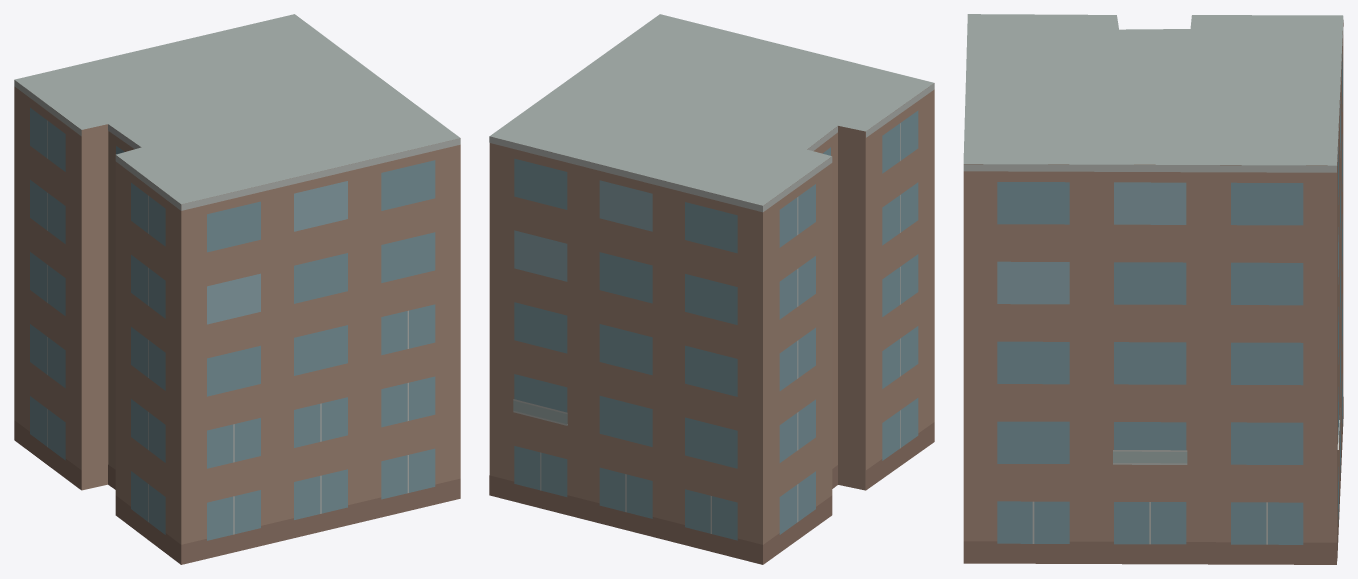
File: survey-upis-32636254.glb
The picture shows the model from 3 angles, left to right: view 1: azimuth 30°, elevation 25°; view 2: azimuth 150°, elevation 25°; view 3: azimuth 270°, elevation 25°; orthographic projection. The views are drawn at different scales.
Visible parts, largest first — view 1: survey-upis-32636254.tmp; view 2: survey-upis-32636254.tmp; view 3: survey-upis-32636254.tmp.
Part boxes in pixels (x1,y1,x2,y2): survey-upis-32636254.tmp: (14, 14, 460, 564); survey-upis-32636254.tmp: (489, 14, 934, 564); survey-upis-32636254.tmp: (963, 14, 1343, 564).
Size of the model in its own units: 10.91 by 13.4 by 11.57.
